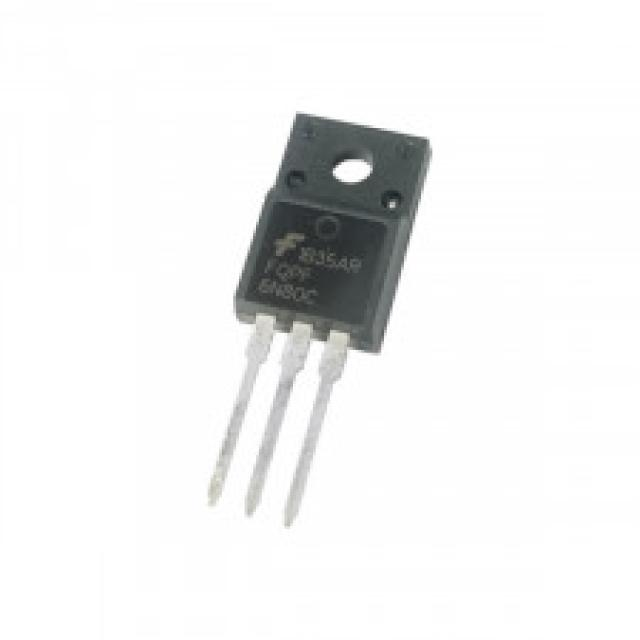Transistor: (202, 108, 422, 532)
